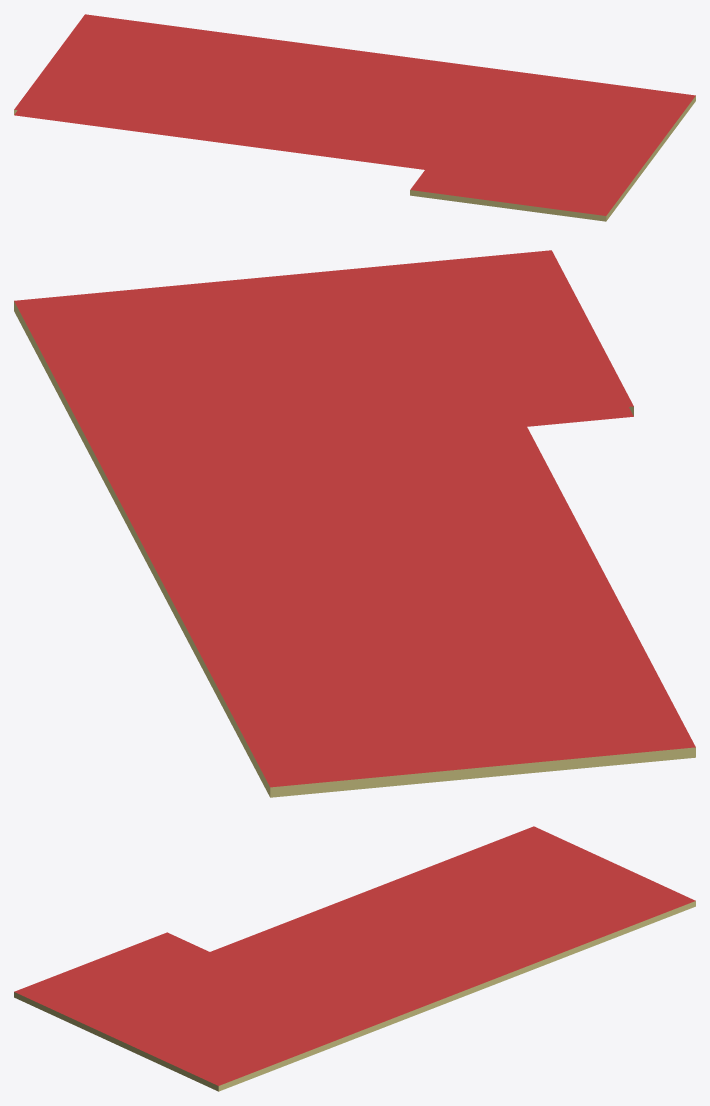
The picture shows the model from 3 angles, top to bottom: view 1: azimuth 30°, elevation 25°; view 2: azimuth 150°, elevation 25°; view 3: azimuth 270°, elevation 25°; orthographic projection. The views are drawn at different scales.
Bounding box in the file's own units: 9.82 × 10.89 × 0.1.
